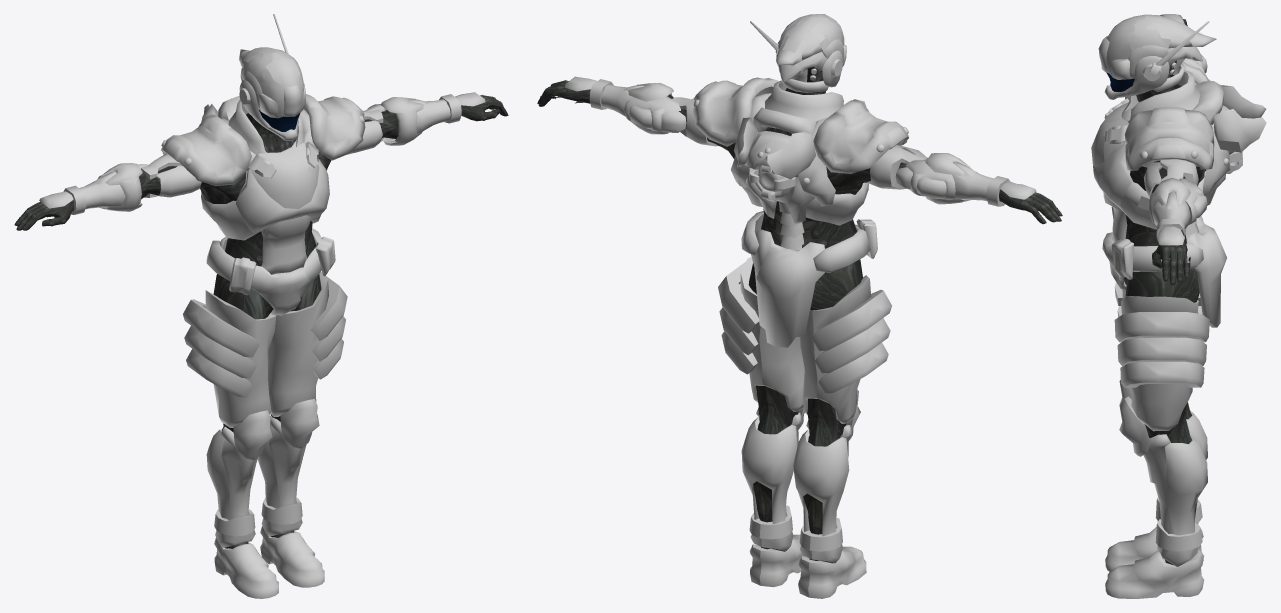
File: week5.obj
The picture shows the model from 3 angles, left to right: view 1: azimuth 30°, elevation 25°; view 2: azimuth 150°, elevation 25°; view 3: azimuth 270°, elevation 25°; orthographic projection. The views are drawn at different scales.
Parts seen in each view (by area): view 1: Model001_24_Outersuitlowerd_1.0_0.0_0.0, Model001_24_Outersuitupperd_1.0_0.0_0.0, Model001_24_Vanquish_1.0_0.0_0.0, Model001_24_Innersuitd_1.0_0.0_0.001; view 2: Model001_24_Outersuitlowerd_1.0_0.0_0.0, Model001_24_Outersuitupperd_1.0_0.0_0.0, Model001_24_Vanquish_1.0_0.0_0.0; view 3: Model001_24_Outersuitlowerd_1.0_0.0_0.0, Model001_24_Outersuitupperd_1.0_0.0_0.0, Model001_24_Vanquish_1.0_0.0_0.0, Model001_24_Innersuitd_1.0_0.0_0.001, Model001_24_Visor_1.0_0.0_0.0.
Part boxes in pixels (x1=…): Model001_24_Outersuitlowerd_1.0_0.0_0.0: x1=183, y1=99, x2=347, y2=598; Model001_24_Outersuitupperd_1.0_0.0_0.0: x1=39, y1=14, x2=485, y2=214; Model001_24_Vanquish_1.0_0.0_0.0: x1=14, y1=110, x2=398, y2=548; Model001_24_Innersuitd_1.0_0.0_0.001: x1=461, y1=95, x2=508, y2=121; Model001_24_Outersuitlowerd_1.0_0.0_0.0: x1=718, y1=80, x2=891, y2=598; Model001_24_Outersuitupperd_1.0_0.0_0.0: x1=564, y1=14, x2=1036, y2=224; Model001_24_Vanquish_1.0_0.0_0.0: x1=552, y1=67, x2=1062, y2=563; Model001_24_Outersuitlowerd_1.0_0.0_0.0: x1=1091, y1=70, x2=1226, y2=598; Model001_24_Outersuitupperd_1.0_0.0_0.0: x1=1098, y1=14, x2=1266, y2=245; Model001_24_Vanquish_1.0_0.0_0.0: x1=1123, y1=15, x2=1206, y2=565; Model001_24_Innersuitd_1.0_0.0_0.001: x1=1152, y1=230, x2=1190, y2=285; Model001_24_Visor_1.0_0.0_0.0: x1=1106, y1=72, x2=1134, y2=91.
Size of the model in its own units: 1.77 by 1.85 by 0.5131.
